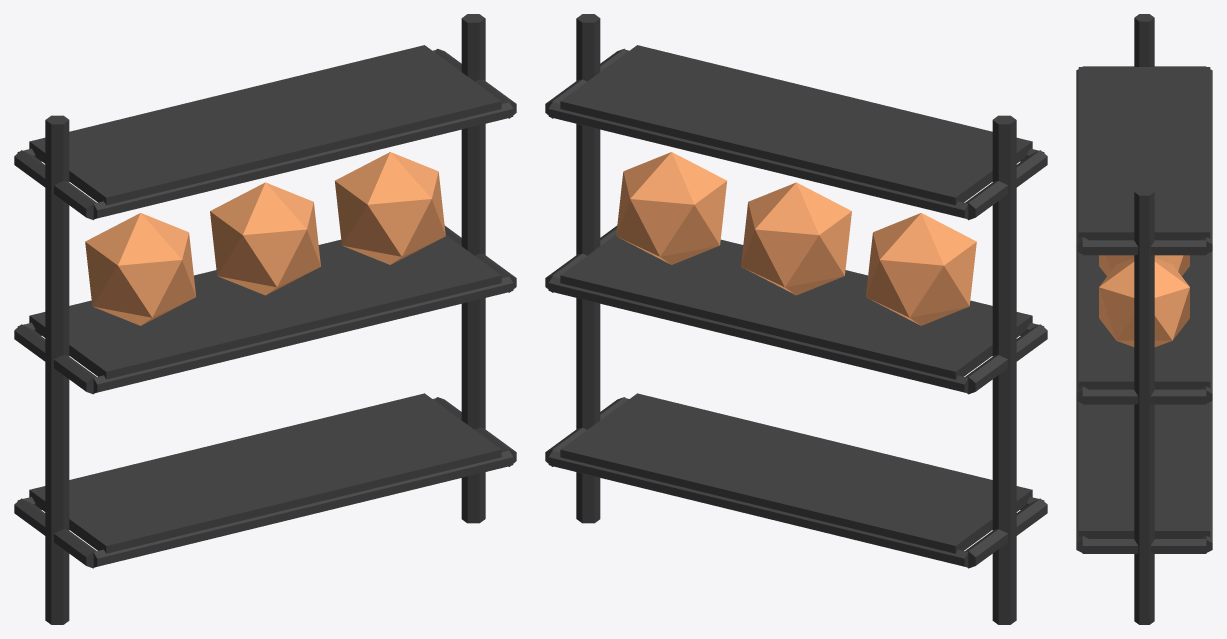
3 views of the same model, side by side, from view 1: azimuth 30°, elevation 25°; view 2: azimuth 150°, elevation 25°; view 3: azimuth 270°, elevation 25° (orthographic). The views are drawn at different scales.
Visible parts, largest first — view 1: Ball shelf.002, Ball shelf, Ball shelf.001, Frame, Ball, Ball.002, Ball.001, Frame.001, Rail, Rail.004, Rail.002, Rack end brace (+2 smaller); view 2: Ball shelf.002, Ball shelf, Ball shelf.001, Frame, Ball, Ball.002, Ball.001, Frame.001, Rail.001, Rail.005, Rail.003, Rack end brace (+2 smaller); view 3: Ball shelf.002, Ball shelf, Ball shelf.001, Frame.001, Ball.002, Rack end brace.003, Rack end brace.005, Rack end brace.001, Frame, Ball.001, Rail.004, Rail.005 (+4 smaller).
Part boxes in pixels (x1,y1,x2,y2): Ball shelf.002: (29, 45, 501, 205); Ball shelf: (29, 393, 501, 553); Ball shelf.001: (29, 235, 501, 379); Frame: (45, 115, 69, 624); Ball: (85, 213, 195, 325); Ball.002: (335, 152, 445, 264); Ball.001: (210, 182, 320, 295); Frame.001: (461, 14, 485, 523); Rail: (93, 450, 513, 567); Rail.004: (93, 102, 513, 219); Rail.002: (93, 276, 513, 393); Rack end brace: (14, 498, 96, 568); Ball shelf.002: (560, 45, 1032, 205); Ball shelf: (560, 393, 1032, 553); Ball shelf.001: (560, 235, 1032, 379); Frame: (992, 115, 1016, 624); Ball: (866, 213, 976, 325); Ball.002: (616, 152, 726, 264); Ball.001: (741, 182, 851, 295); Frame.001: (576, 14, 600, 523); Rail.001: (548, 450, 968, 567); Rail.005: (548, 102, 968, 219); Rail.003: (548, 276, 968, 393); Rack end brace: (965, 498, 1047, 568); Ball shelf.002: (1078, 67, 1210, 240); Ball shelf: (1078, 402, 1210, 538); Ball shelf.001: (1078, 253, 1210, 389); Frame.001: (1134, 188, 1154, 624); Ball.002: (1099, 258, 1189, 346); Rack end brace.003: (1082, 389, 1206, 404); Rack end brace.005: (1082, 240, 1206, 255); Rack end brace.001: (1082, 539, 1206, 553); Frame: (1134, 14, 1154, 66); Ball.001: (1099, 255, 1189, 276); Rail.004: (1076, 69, 1088, 254); Rail.005: (1200, 69, 1212, 254).
Size of the model in its own units: 104 by 115 by 33.12.
